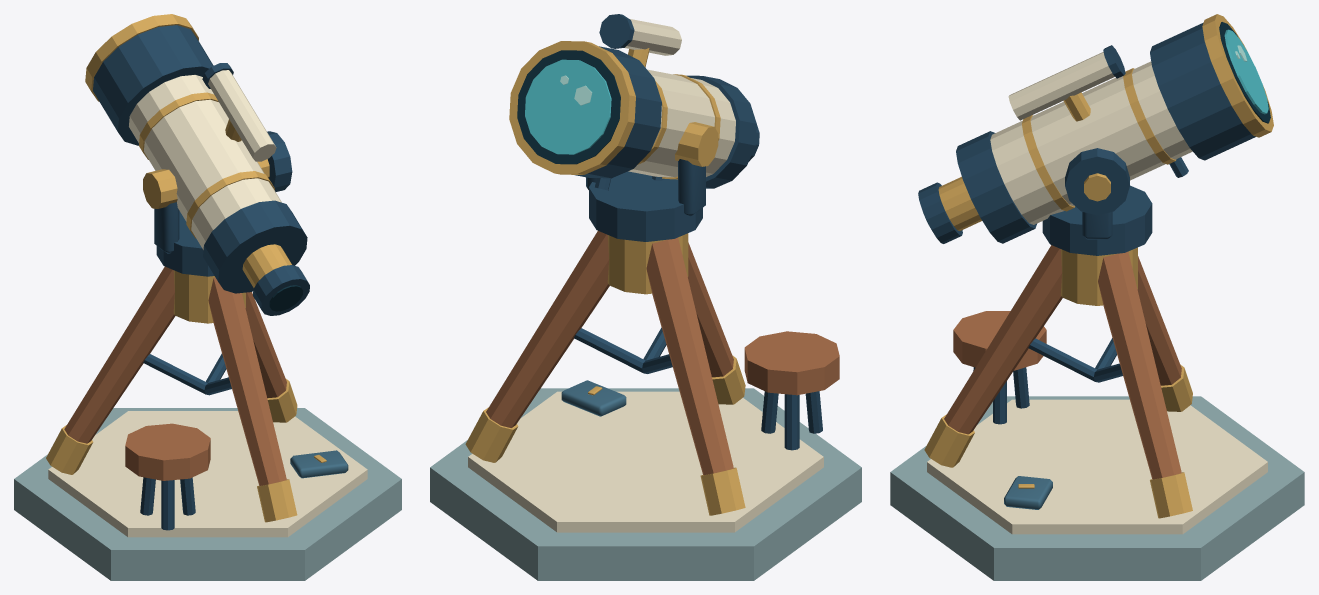
The model's file is telescope.glb.
The picture shows the model from 3 angles, left to right: view 1: azimuth 30°, elevation 25°; view 2: azimuth 150°, elevation 25°; view 3: azimuth 270°, elevation 25°; orthographic projection. The views are drawn at different scales.
Visible parts, largest first — view 1: HilltopTelescope; view 2: HilltopTelescope; view 3: HilltopTelescope.
Boxes of the visible parts, x1=… form: HilltopTelescope: x1=14, y1=14, x2=401, y2=580; HilltopTelescope: x1=430, y1=14, x2=861, y2=580; HilltopTelescope: x1=890, y1=14, x2=1304, y2=580.
Size of the model in its own units: 1.77 by 2.63 by 2.04.
